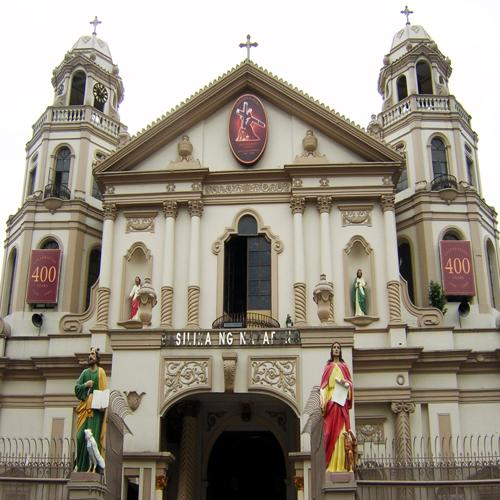Quiapo Church: (15, 8, 500, 482)
